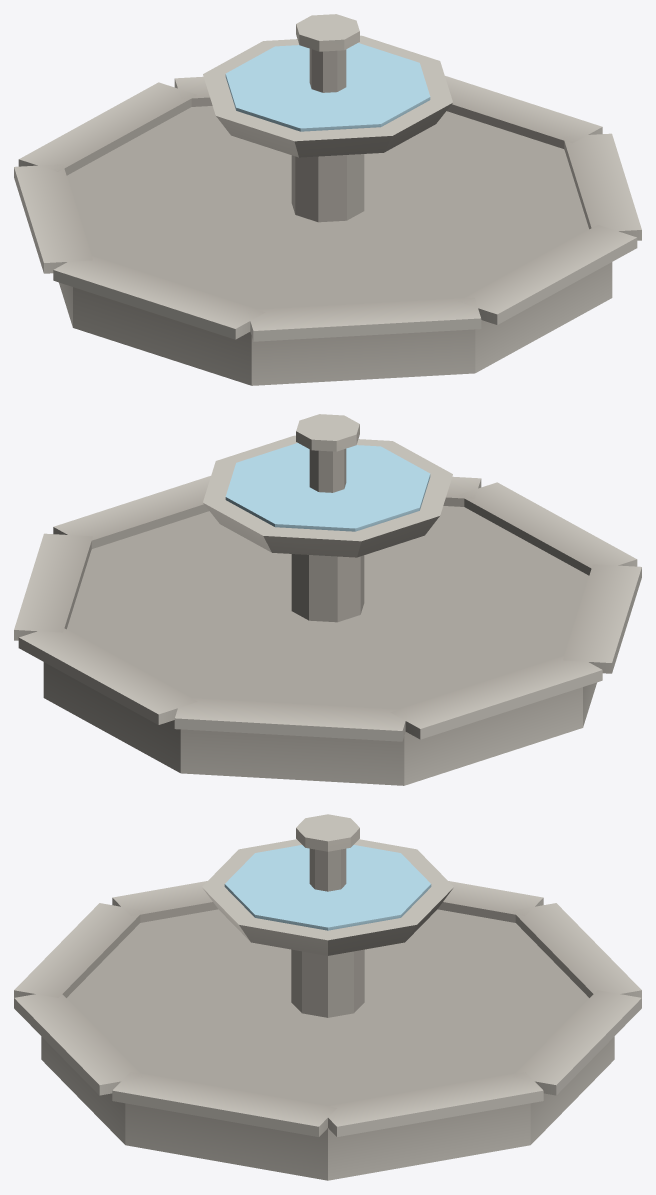
The model's file is VFountain.fbx.
The picture shows the model from 3 angles, top to bottom: view 1: azimuth 30°, elevation 25°; view 2: azimuth 150°, elevation 25°; view 3: azimuth 270°, elevation 25°; orthographic projection. The views are drawn at different scales.
Parts seen in each view (by area): view 1: VFountain; view 2: VFountain; view 3: VFountain.
Part boxes in pixels (bbox=[...]): VFountain: bbox=[14, 14, 641, 385]; VFountain: bbox=[14, 414, 641, 785]; VFountain: bbox=[14, 814, 641, 1180].
Size of the model in its own units: 5.48 by 2.23 by 5.48.
